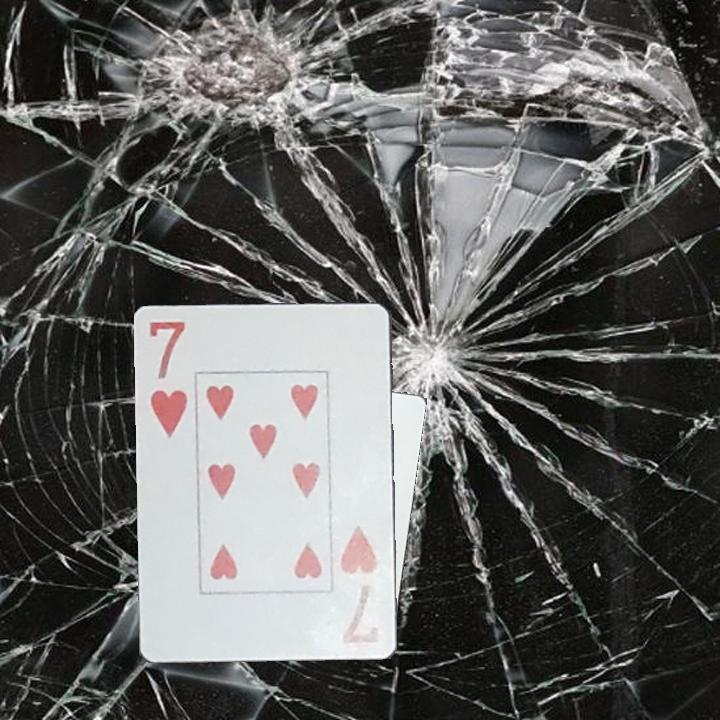7h: (336, 523, 385, 648), (146, 316, 191, 441)
